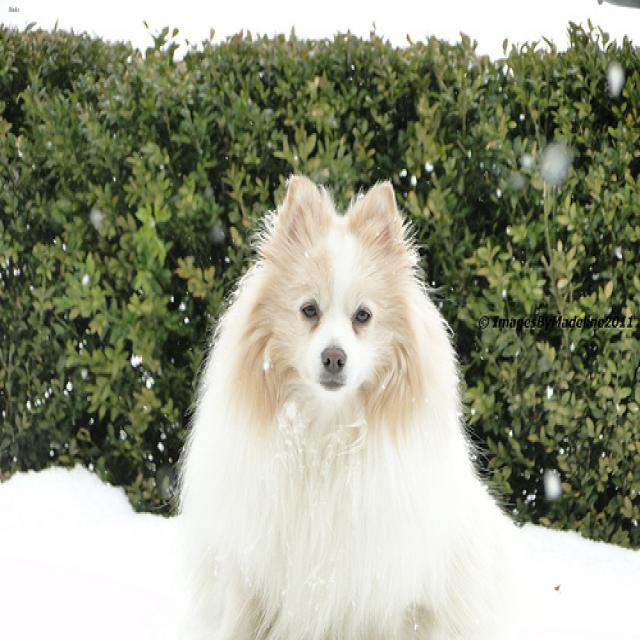dog-pomeranian: (163, 154, 492, 637)
